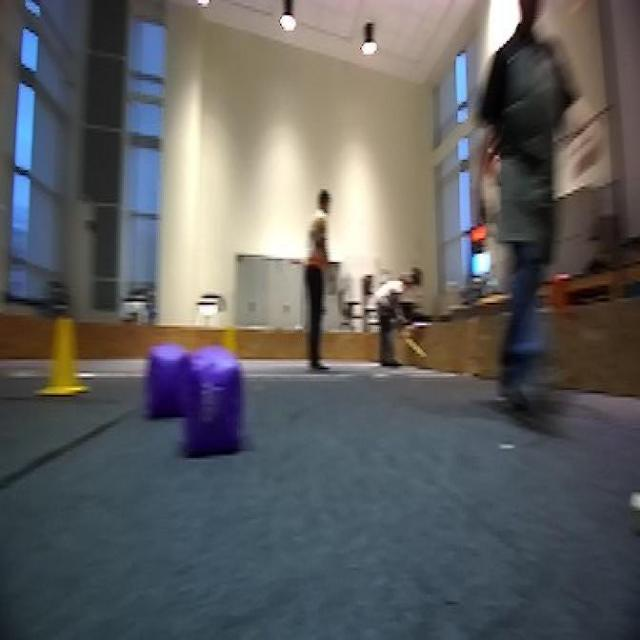frc_cone: (36, 313, 90, 397), (218, 327, 244, 390)
frc_cube: (186, 352, 242, 450), (148, 342, 192, 421)
